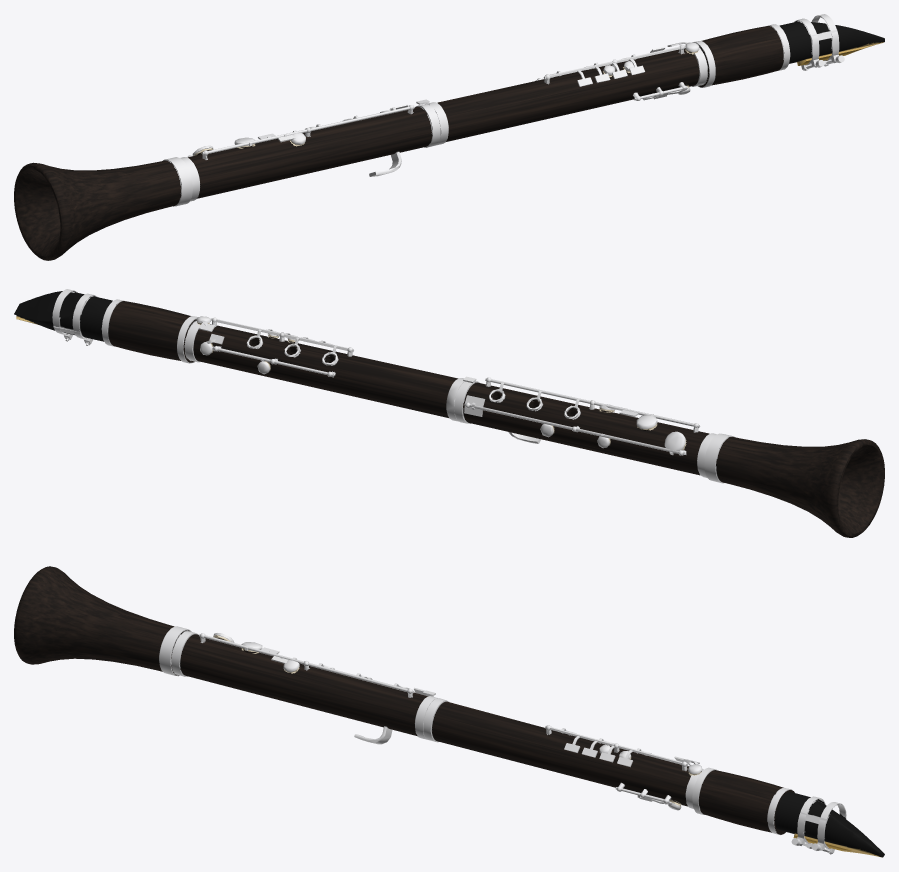
The model's file is Clarinet.glb.
3 renders of one model, top to bottom at view 1: azimuth 30°, elevation 25°; view 2: azimuth 150°, elevation 25°; view 3: azimuth 330°, elevation 25°, orthographic.
Visible parts, largest first — view 1: SM_Clarinet; view 2: SM_Clarinet; view 3: SM_Clarinet.
Boxes of the visible parts, bbox=[...] form: SM_Clarinet: bbox=[14, 14, 884, 260]; SM_Clarinet: bbox=[14, 289, 884, 537]; SM_Clarinet: bbox=[14, 566, 884, 857].
Bounding box in the file's own units: 0.6754 × 0.0693 × 0.0692.
1 material, 1 textured.
